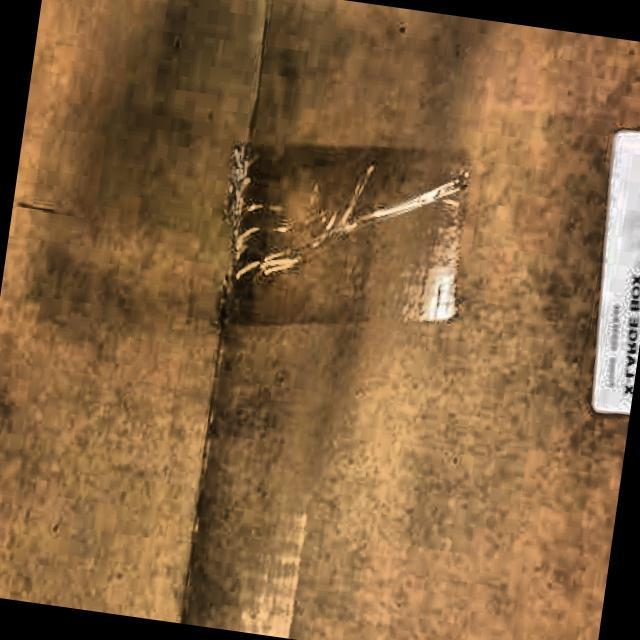cardboard: (575, 114, 640, 418)
